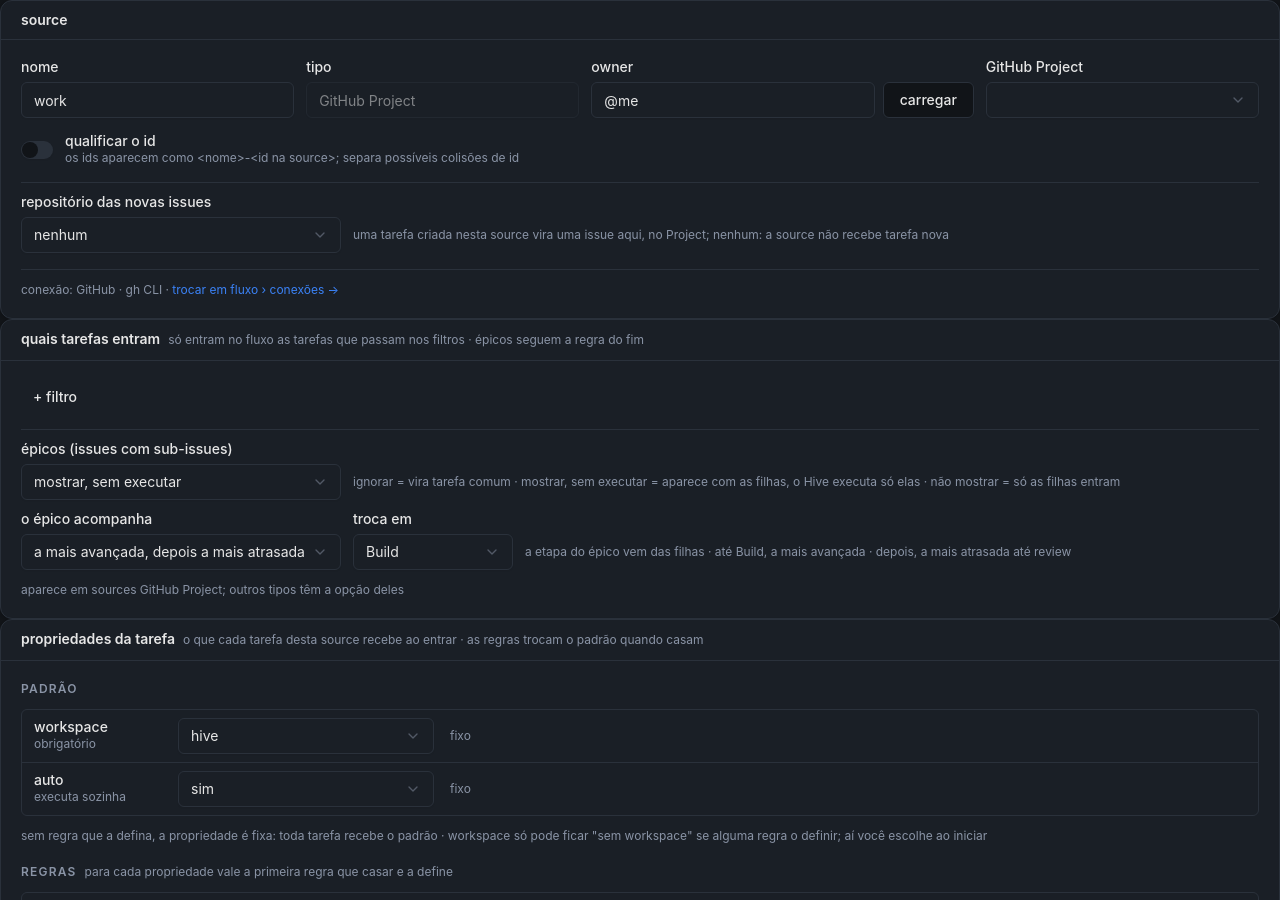
Test case: switches at shows only with furthest ahead, then furthest behind; with another choice the hint takes its column (#30)
Click the dropdown named "o épico acompanha" at (181, 552), box x1=21 y1=534 x2=341 y2=570
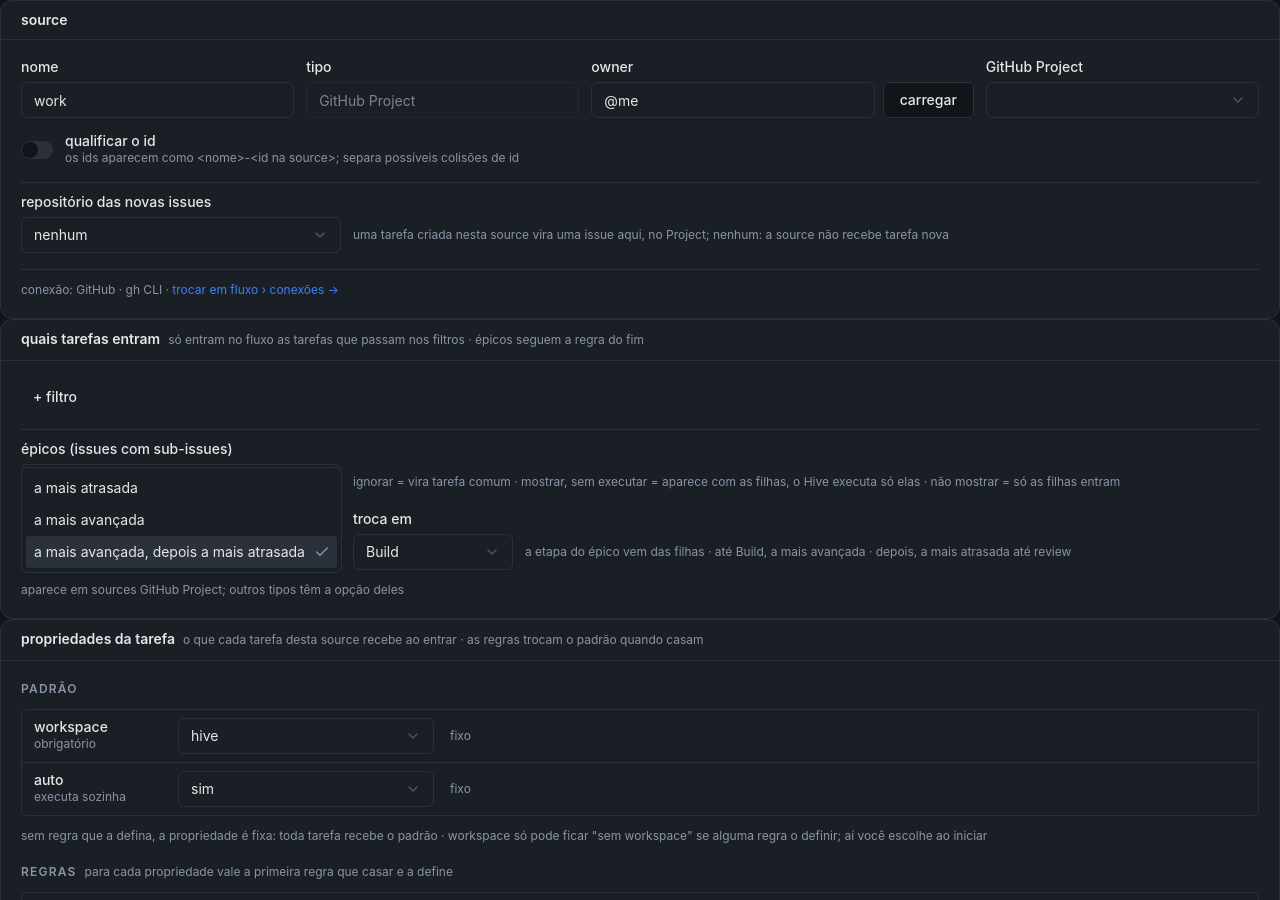
Click the option "a mais atrasada" at (86, 488), box x1=34 y1=479 x2=138 y2=496
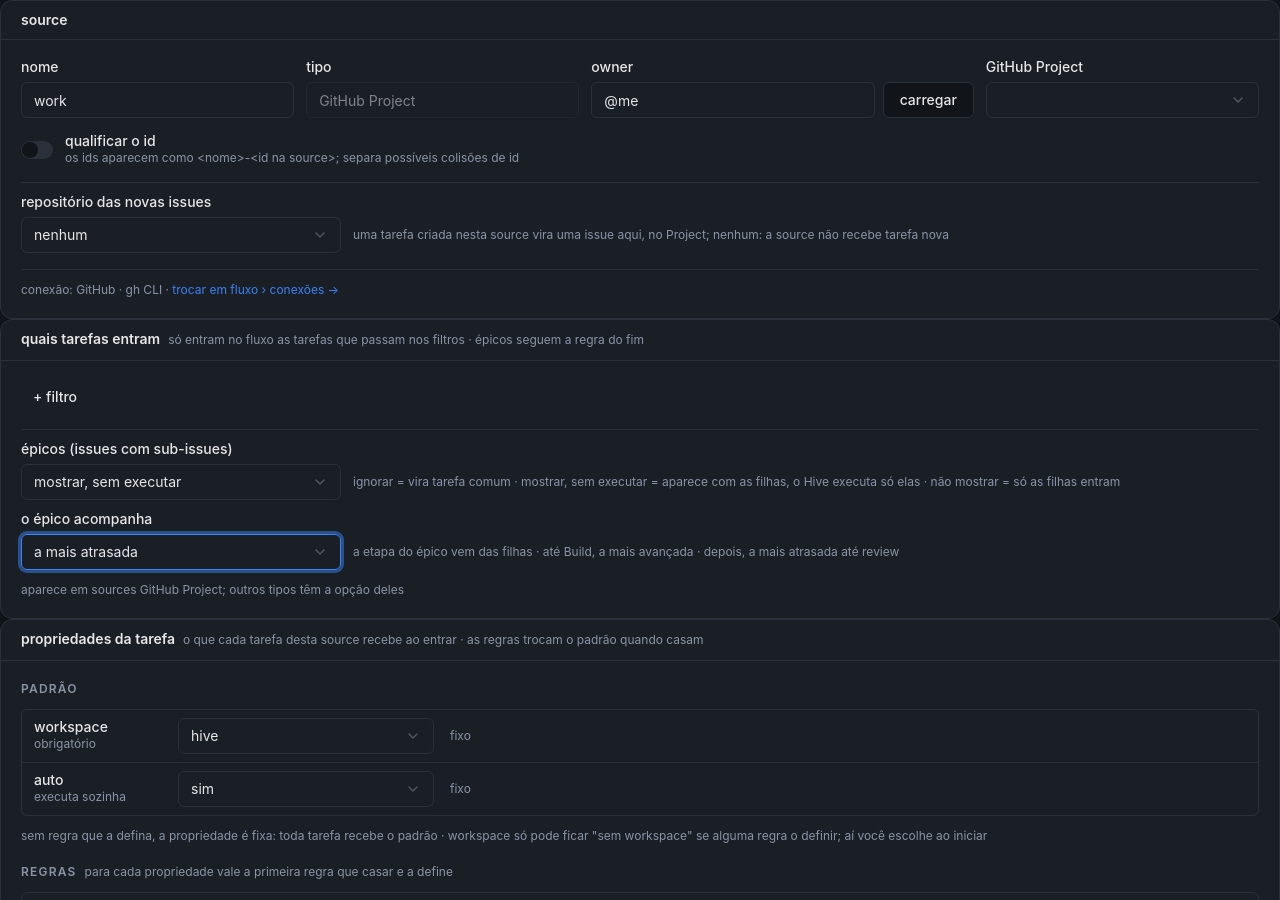
Check: the label labelled "troca em" is gone
